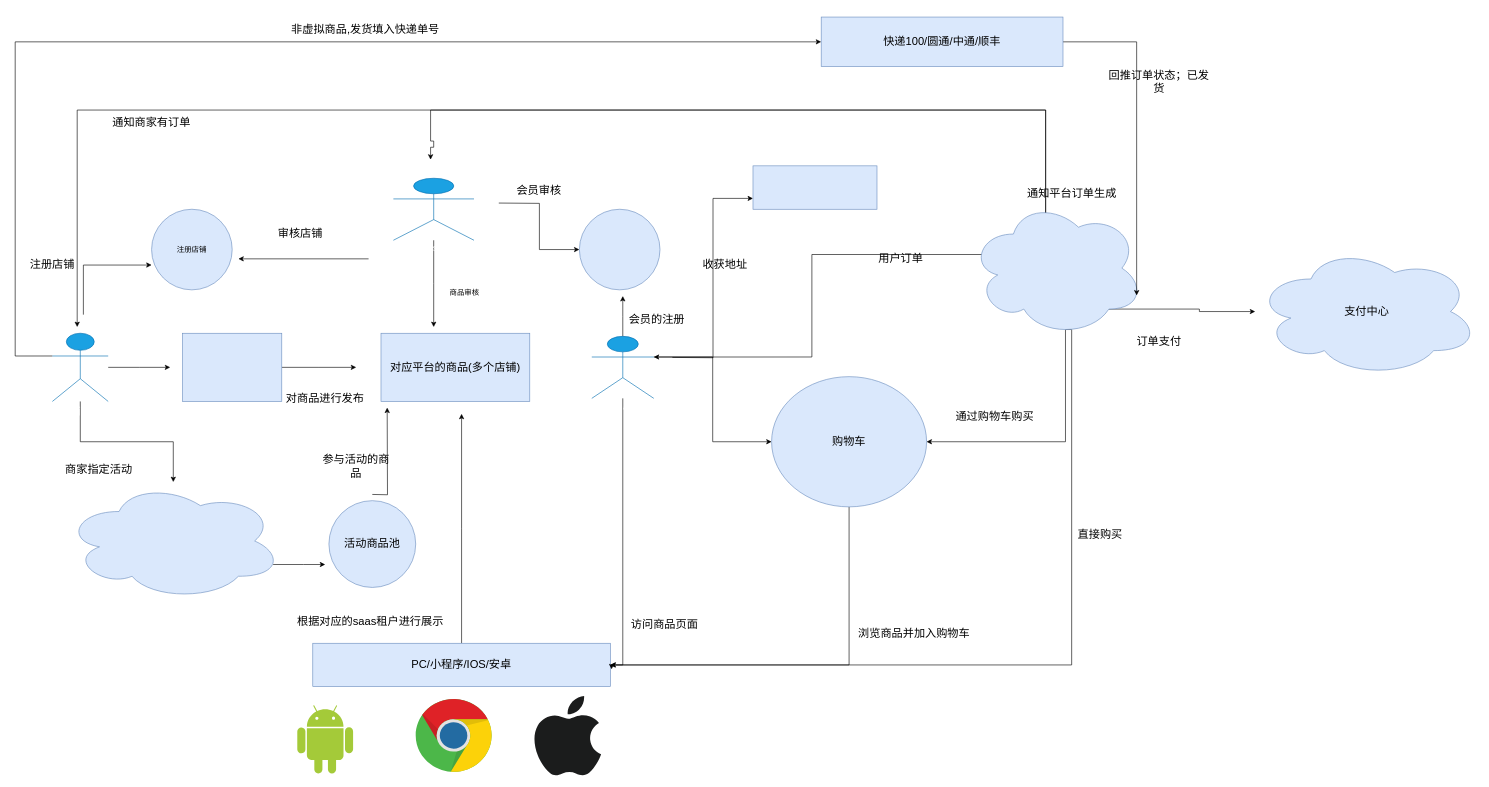
The diagram is 1489 pixels wide and 787 high, and some of its shapes have lost their labels. The centre of each missing label's shape, as x and y in pixels:
发布商品 （添加商品的各种属性）: [232,367]
收货地址: [814,187]
注册会员: [619,249]
营销中心或活动中心: [173,540]
订单中心: [1056,267]
